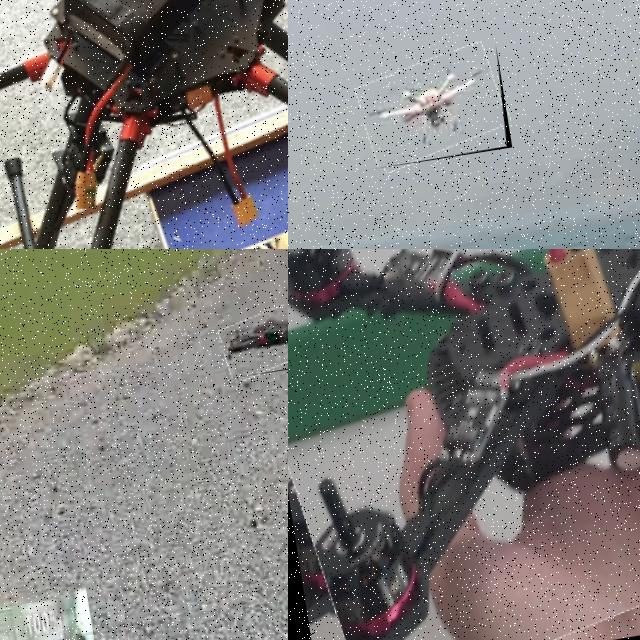drone: (288, 249, 640, 640), (0, 0, 288, 249), (355, 44, 512, 170), (218, 298, 288, 379)
